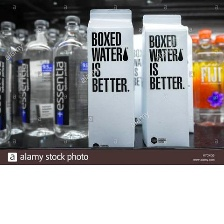bottle: (18, 14, 59, 138), (52, 14, 90, 142), (192, 28, 224, 128), (0, 19, 27, 135)
carton: (84, 7, 136, 148), (140, 13, 190, 148)
